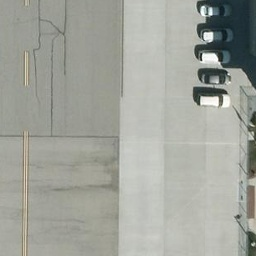car: (197, 48, 231, 64), (197, 92, 230, 108), (199, 70, 231, 85), (200, 27, 233, 41), (200, 3, 233, 16)
